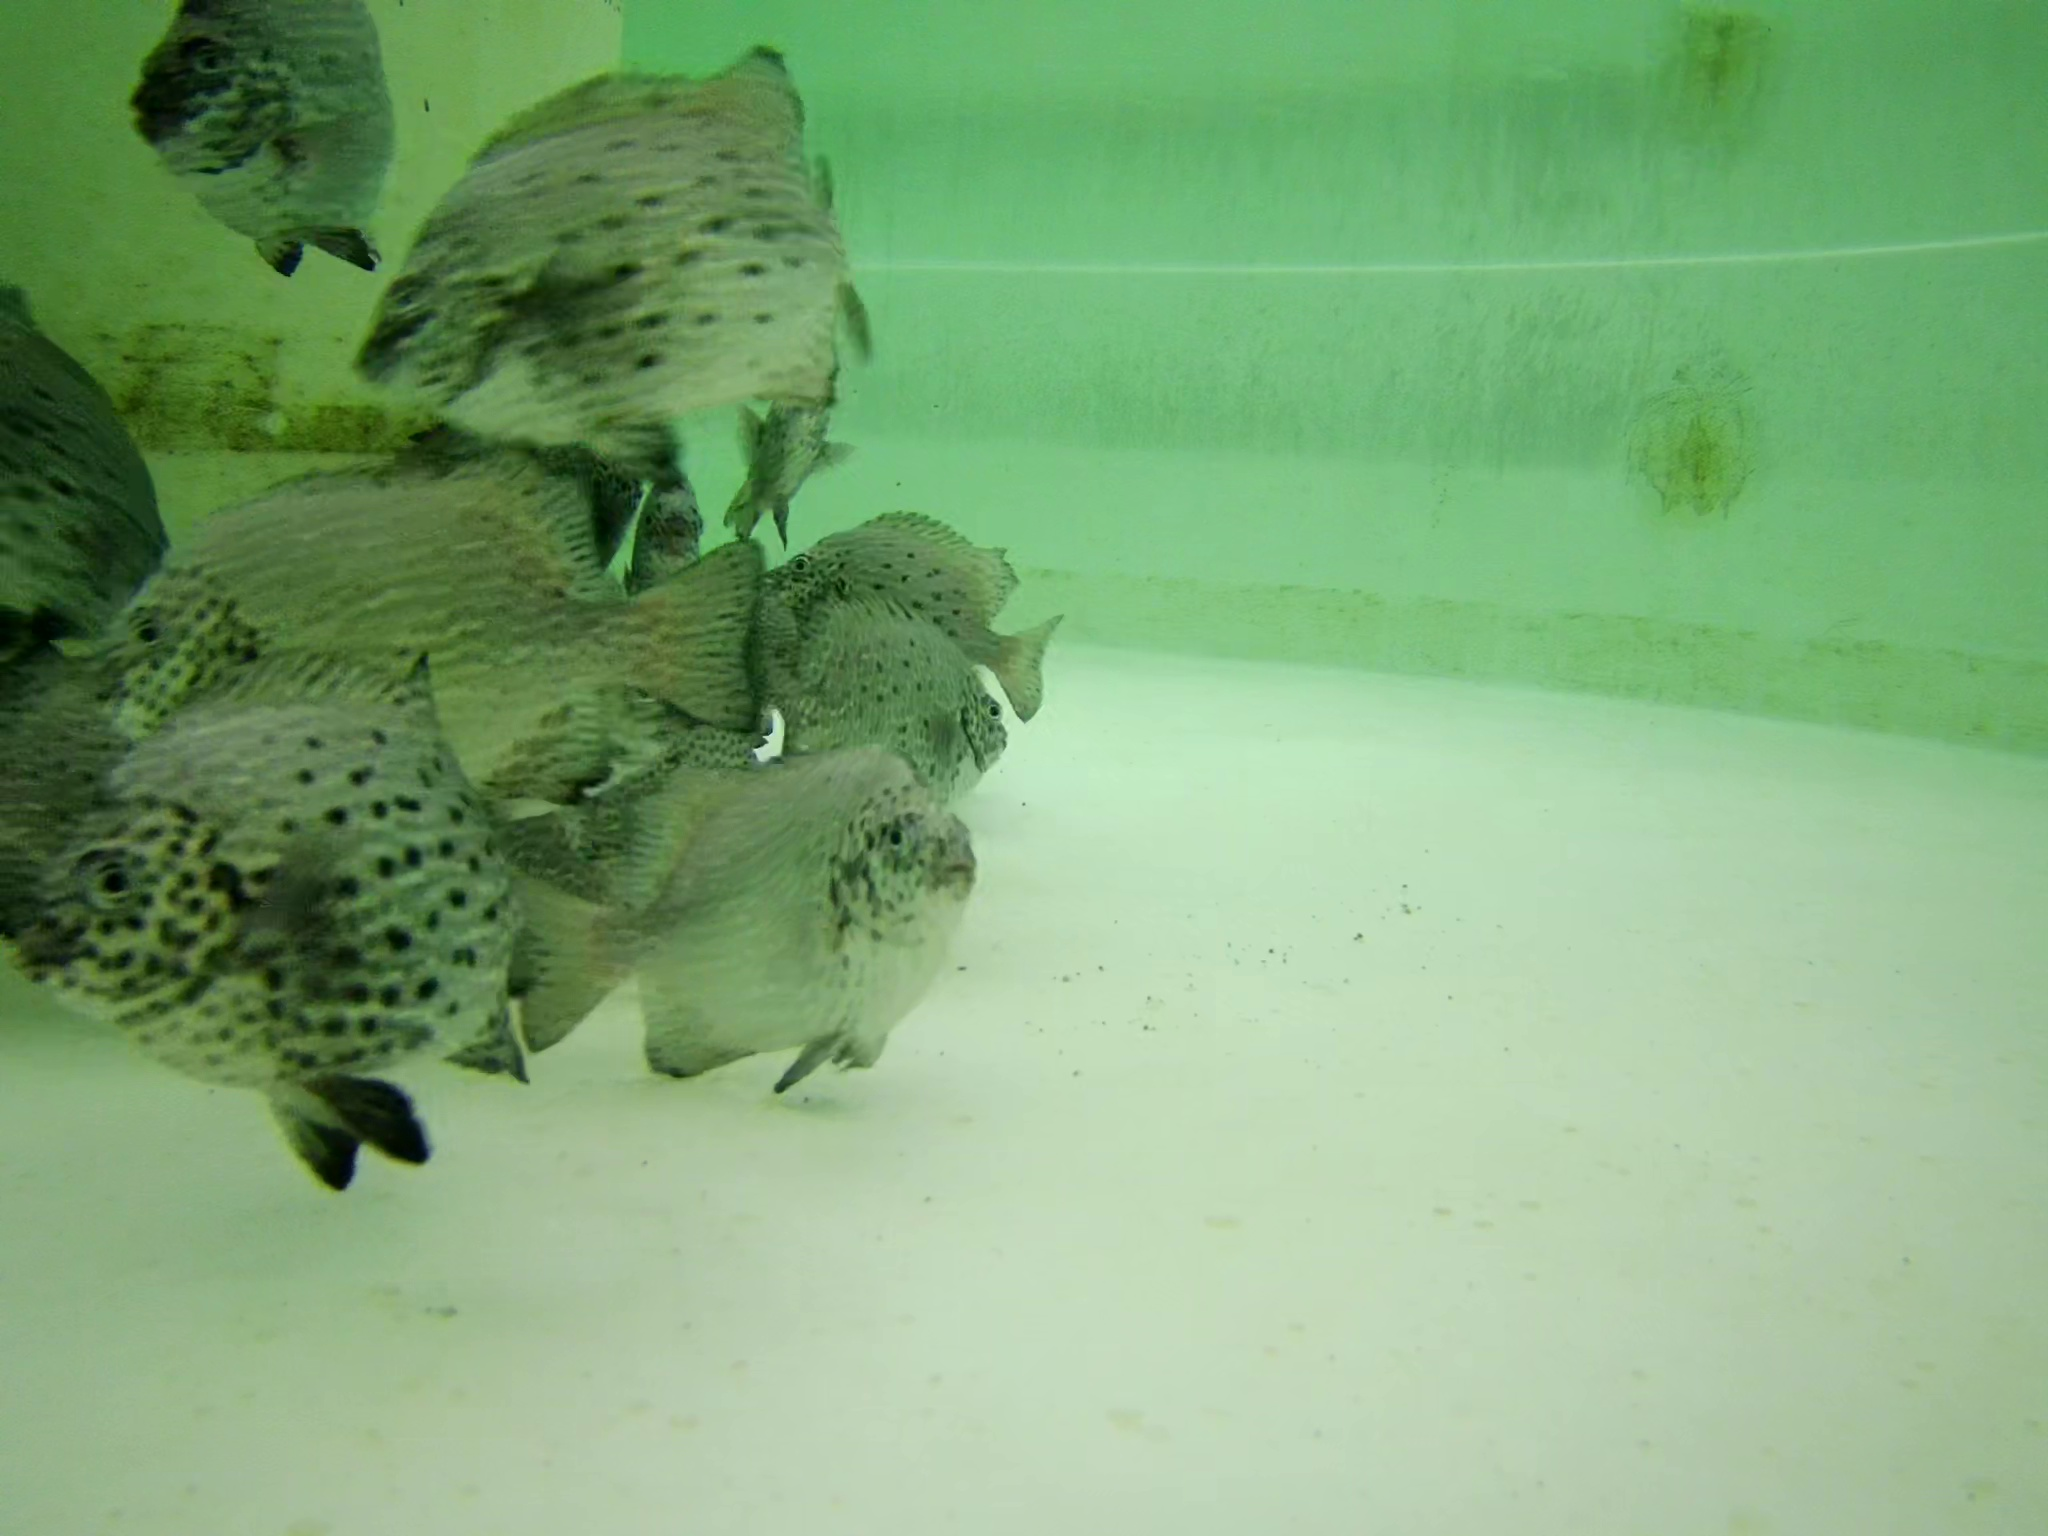fish: (39, 649, 526, 1175), (74, 453, 768, 760), (353, 47, 843, 476), (498, 742, 976, 1087), (498, 731, 769, 1057), (132, 2, 392, 276), (760, 513, 1063, 731), (3, 281, 174, 647), (766, 592, 1009, 789), (97, 574, 266, 742), (727, 366, 834, 532)
